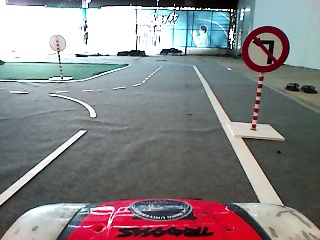ban_left: (242, 25, 291, 74)
